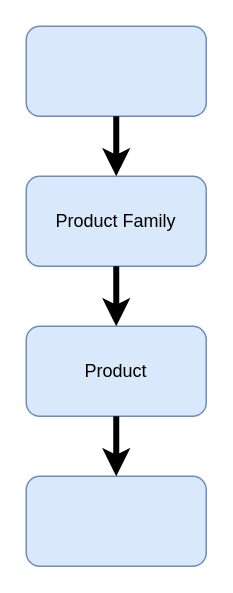
Image size: 233x593. Some labels were removed from this diagram. Each missing label, with the centre of its shape:
"Asset" belongs at pixel 115 520.
"Brand" belongs at pixel 115 70.
